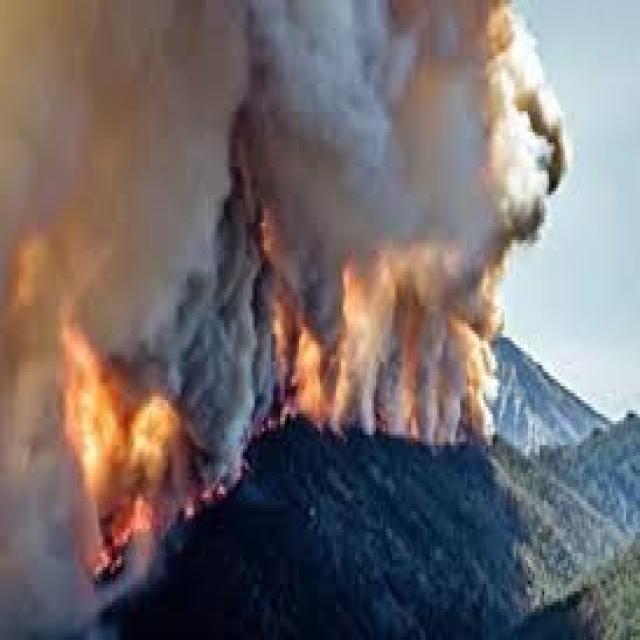Fire: (90, 490, 202, 578)
Smoke: (0, 0, 567, 490)
